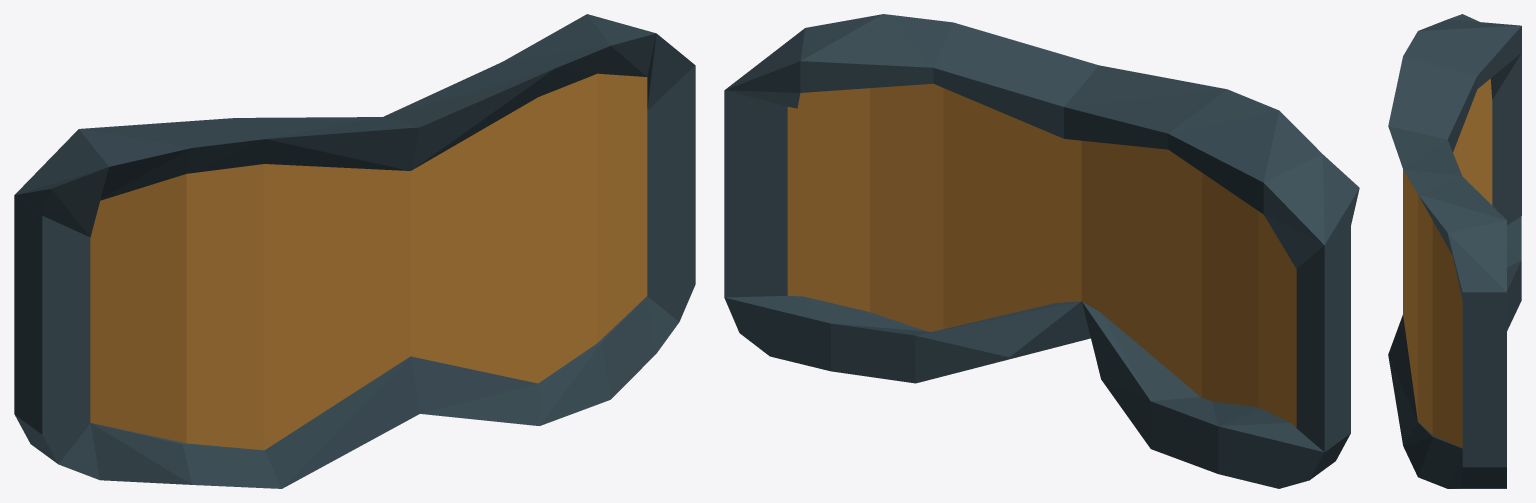
File: skigoggles.glb
3 views of the same model, side by side, from view 1: azimuth 30°, elevation 25°; view 2: azimuth 150°, elevation 25°; view 3: azimuth 270°, elevation 25° (orthographic). The views are drawn at different scales.
Parts seen in each view (by area): view 1: node_MeshObject-691975168-PolyPaper21; view 2: node_MeshObject-691975168-PolyPaper21; view 3: node_MeshObject-691975168-PolyPaper21.
Boxes of the visible parts, <box> form: node_MeshObject-691975168-PolyPaper21: <box>14,14,695,488</box>; node_MeshObject-691975168-PolyPaper21: <box>724,14,1359,488</box>; node_MeshObject-691975168-PolyPaper21: <box>1388,14,1521,488</box>.
Bounding box in the file's own units: 0.4001 × 0.2101 × 0.0901.
